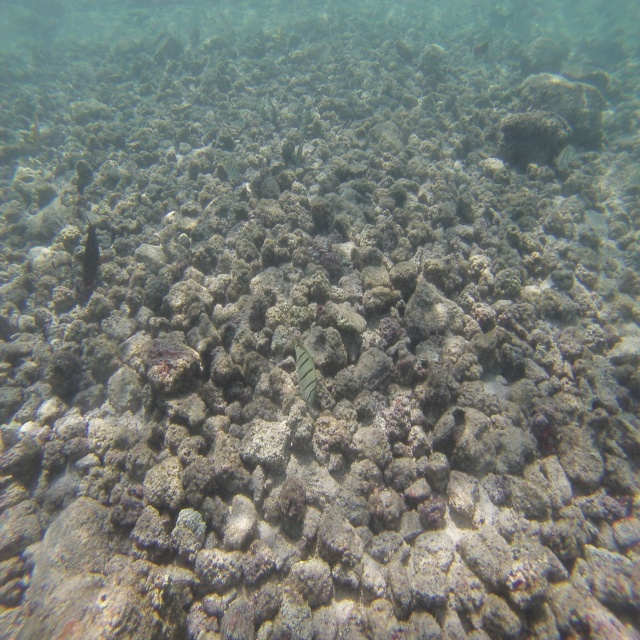Fish: (284, 338, 333, 413), (80, 215, 103, 293)
